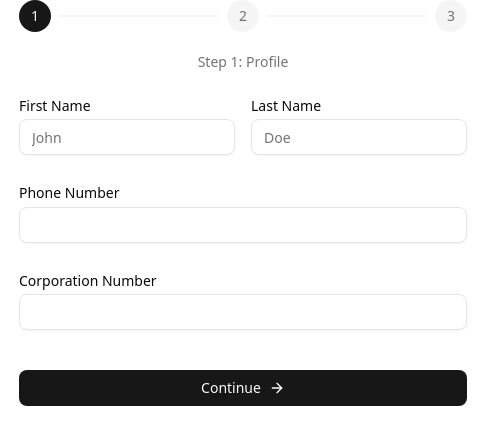
Test: OnboardingPage › Step 1: Profile Form › shows validation error for invalid phone format
The image size is (487, 423).
In the field labelled "Phone Number": (243, 224) [19,206,467,242], type "1234567890"
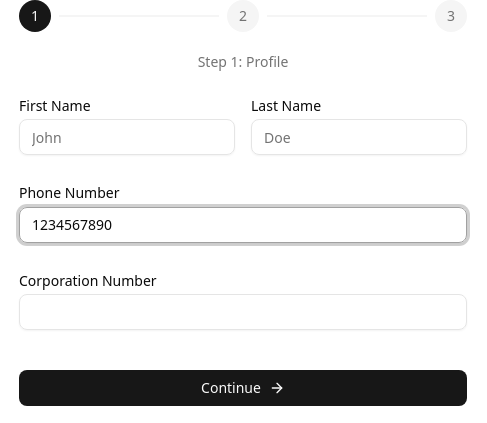
Press Tab
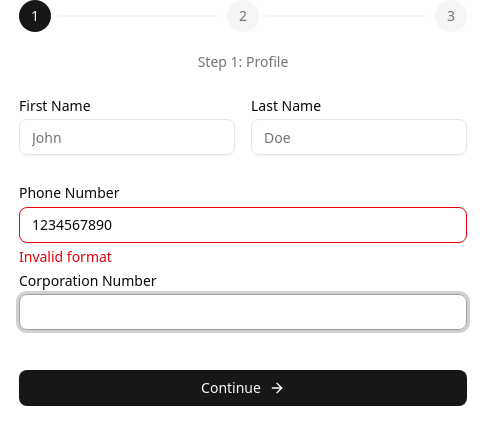
Expected: the text "Invalid format" is shown, [19,246,112,266]
